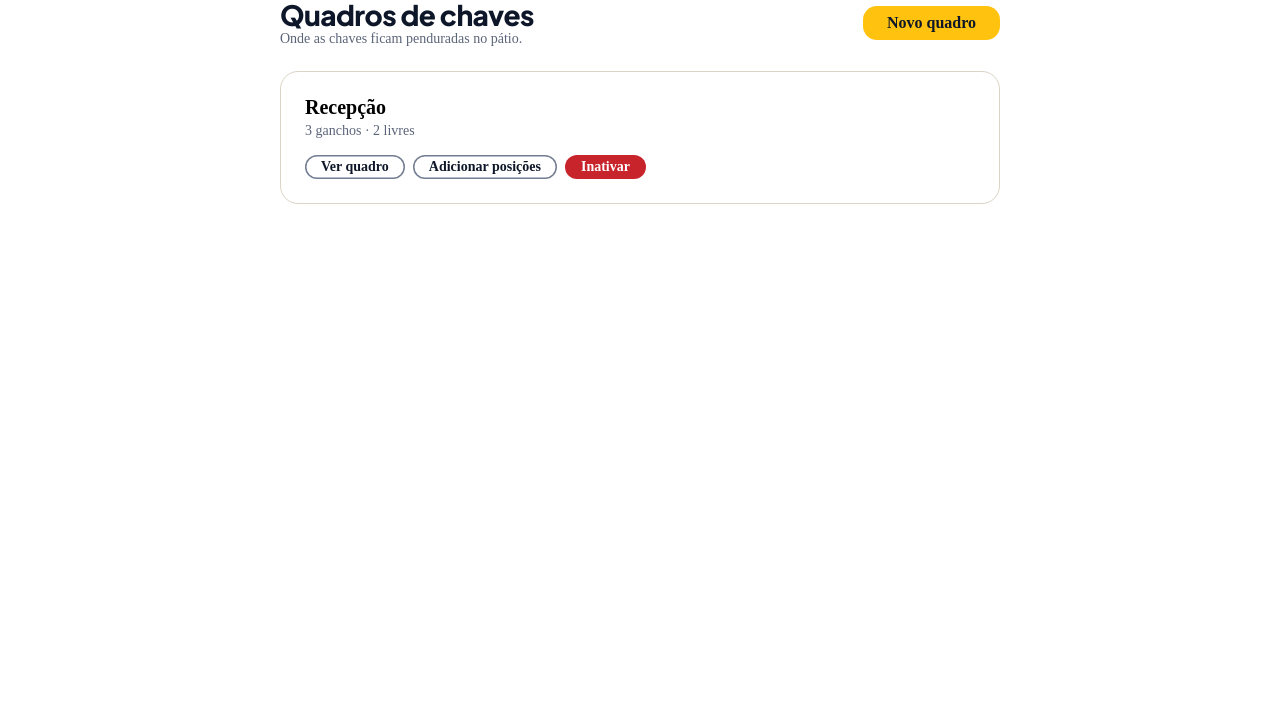
Test: QuadrosLista › inativa o quadro depois de confirmar
Click the button "Inativar": (606, 167) [565,155,646,179]
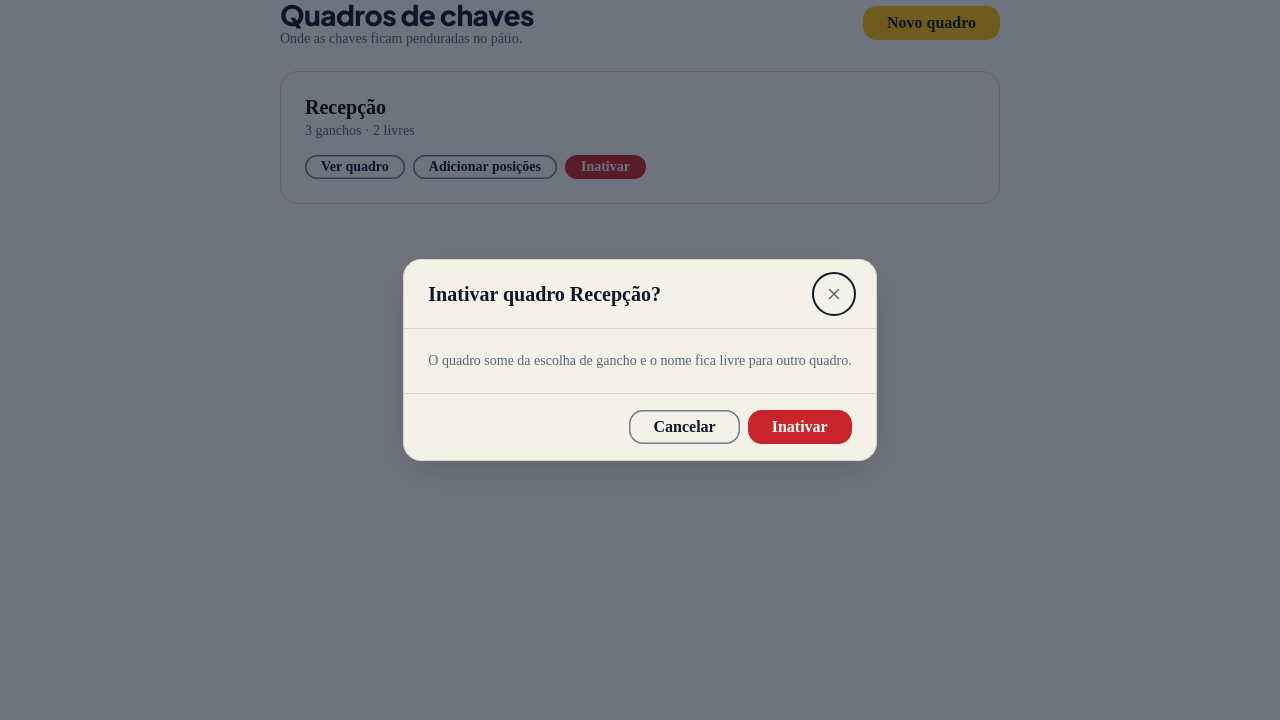
Expected: the heading "Inativar quadro Recepção?" is shown, [428,282,661,306]
Click the button "Inativar": (800, 427) [748,410,852,444]
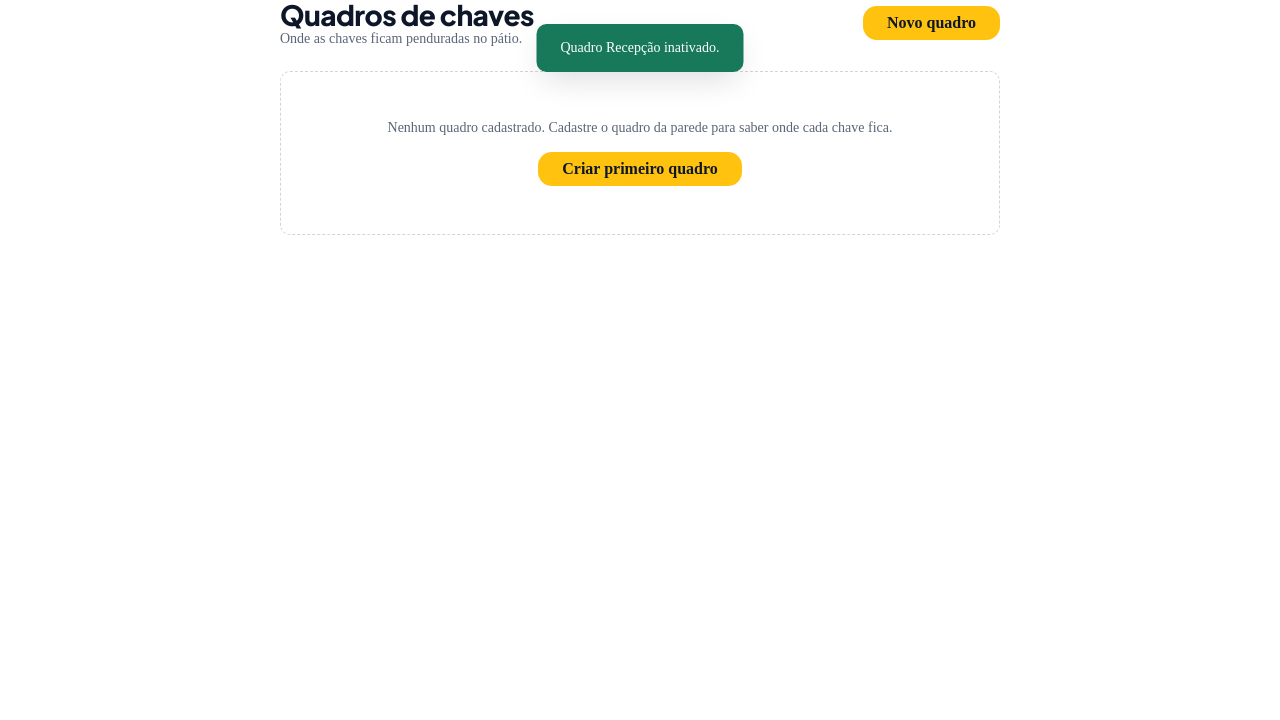
Expected: the text "Quadro Recepção inativado." is shown, [536,24,744,72]
